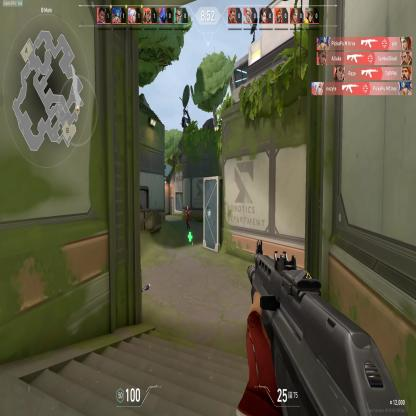enemy: (184, 204, 190, 232)
